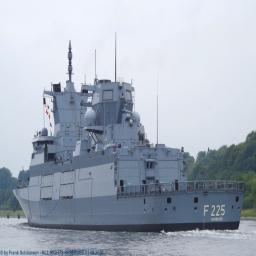Fragata: (12, 29, 250, 233)
